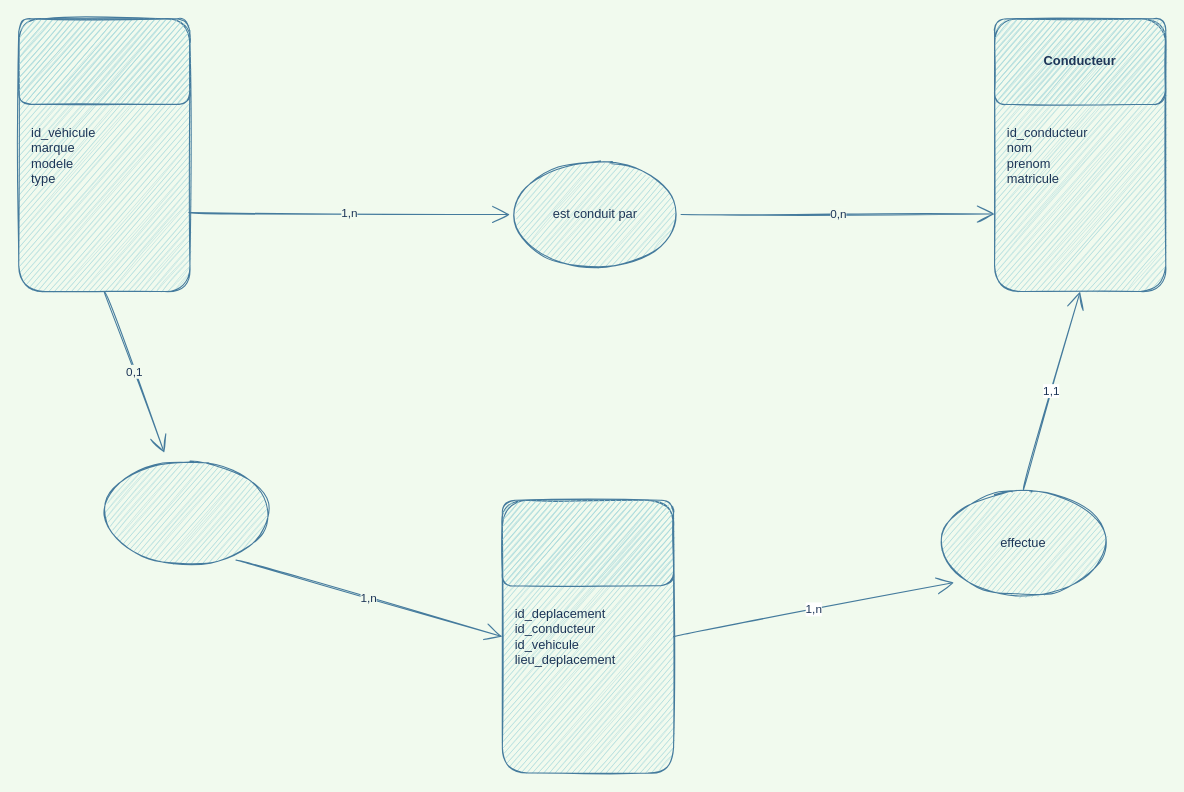
Some shapes in this 1184 by 792 pixel diagram are drawn without their labels. Each missing label, with the centre of its shape:
"concerne" goes at point 186,512.
"Deplacement" goes at point 587,542.
"Vehicule" goes at point 104,61.
